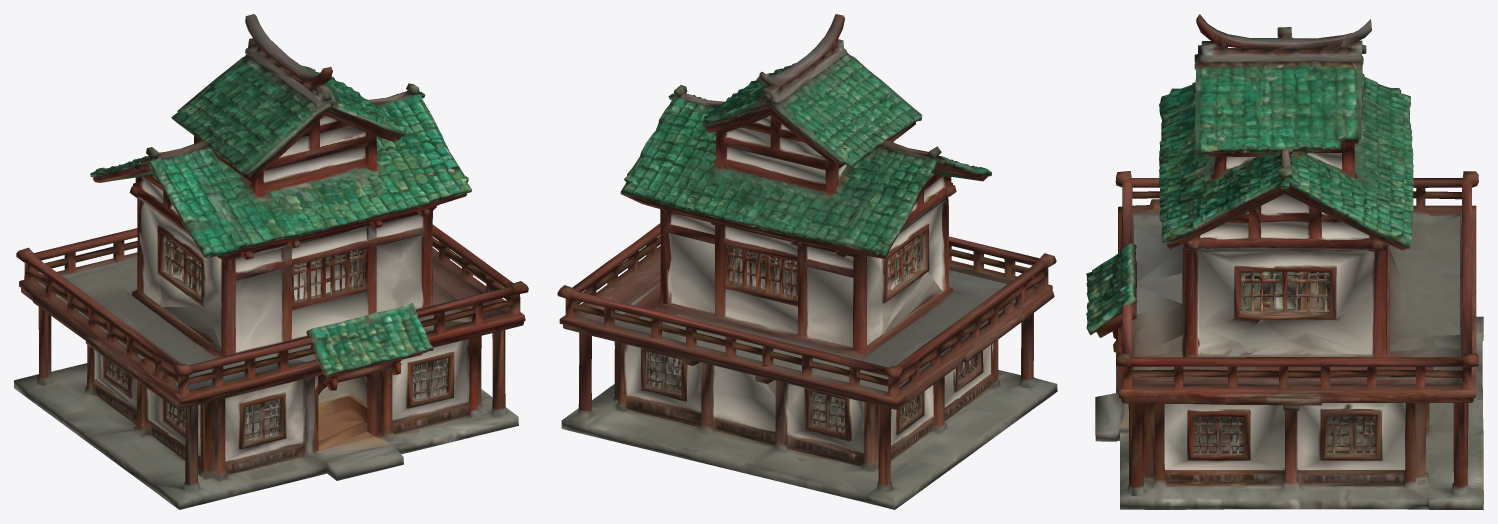
File: bld_sky_teahouse2f.fbx
3 renders of one model, left to right at view 1: azimuth 30°, elevation 25°; view 2: azimuth 150°, elevation 25°; view 3: azimuth 270°, elevation 25°, orthographic. The views are drawn at different scales.
Parts seen in each view (by area): view 1: bld_sky_teahouse2f_LOD0; view 2: bld_sky_teahouse2f_LOD0; view 3: bld_sky_teahouse2f_LOD0.
Boxes of the visible parts, x1,y1,x2,y2 form: bld_sky_teahouse2f_LOD0: [14, 14, 528, 509]; bld_sky_teahouse2f_LOD0: [557, 14, 1057, 509]; bld_sky_teahouse2f_LOD0: [1086, 14, 1483, 509].
Size of what is drawn, in the model's own units: 0.9777 by 0.9813 by 0.8633.
